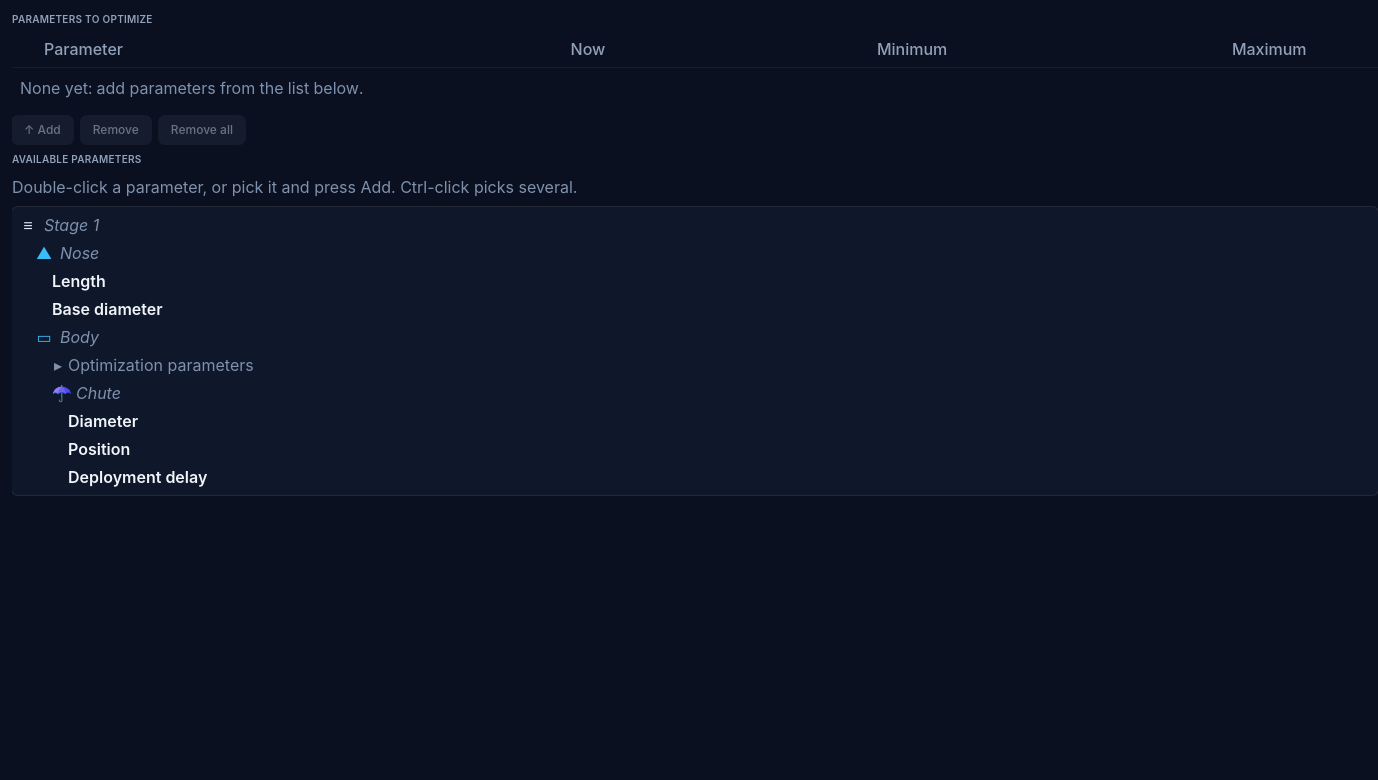
it: optimizer parameter picker › lists each part with its parameters under it, as the design tree nests them
Expected: the text "Nose" is shown, x1=60 y1=241 x2=99 y2=265
Expected: the text "Chute" is shown, x1=76 y1=381 x2=121 y2=405
Click the button "▸ Optimization parameters": (161, 365) x1=16 y1=351 x2=1374 y2=379
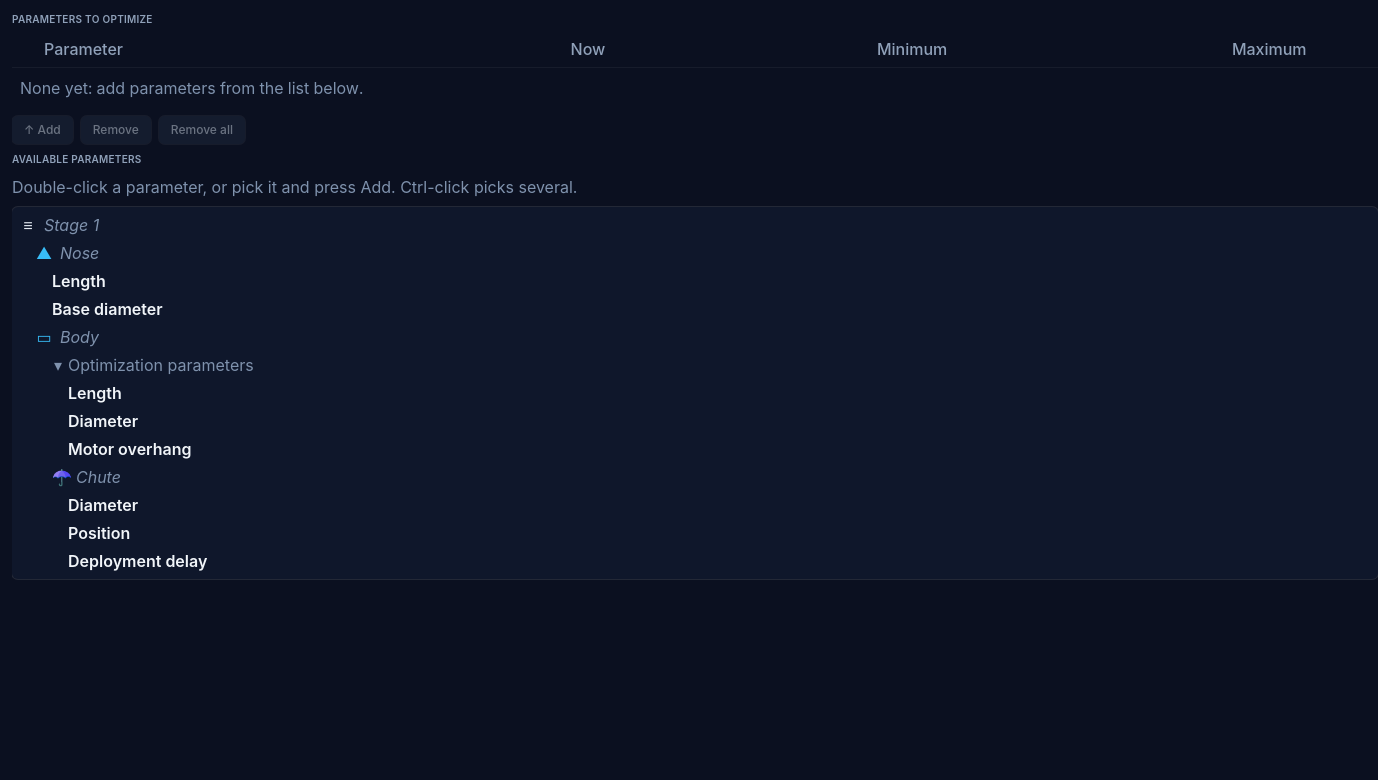
Now the button "Motor overhang" is shown, box x1=16 y1=435 x2=1374 y2=463
